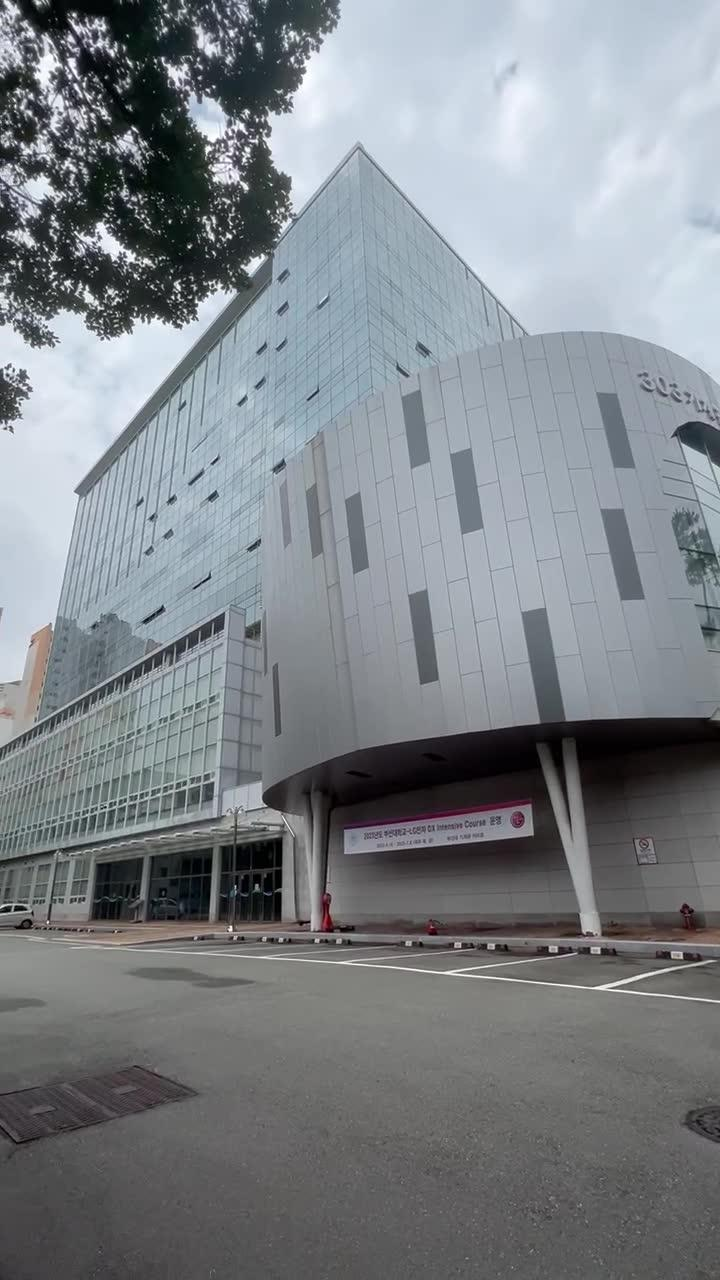building: (48, 360, 674, 790)
